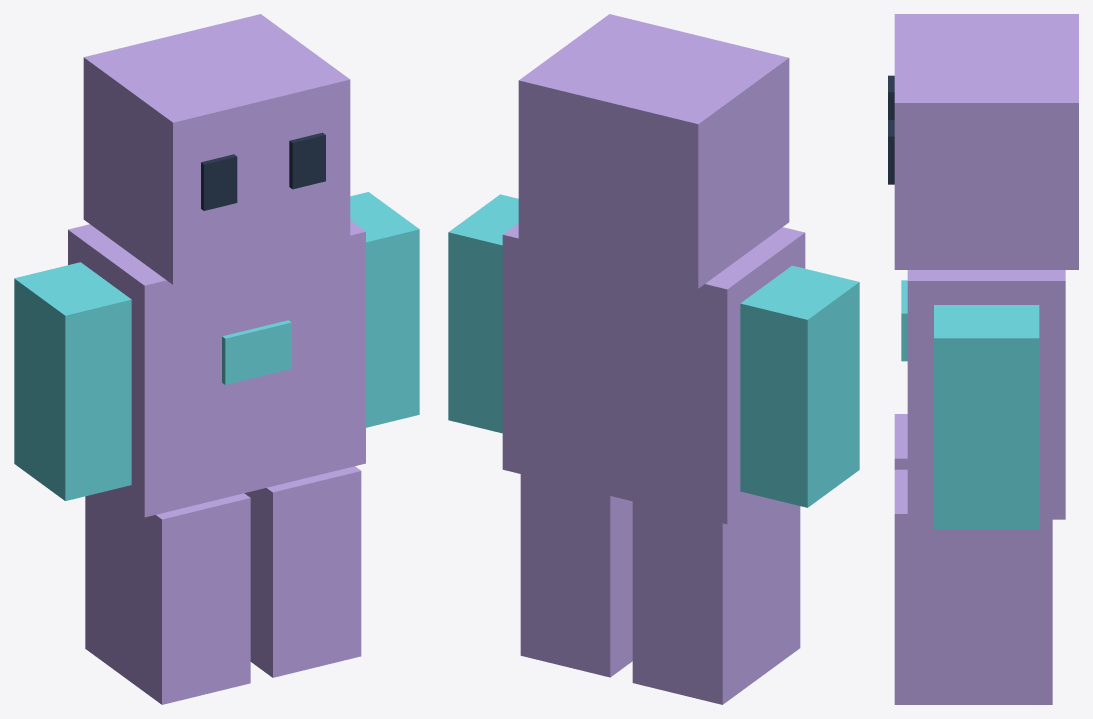
File: robot.gltf
The picture shows the model from 3 angles, left to right: view 1: azimuth 30°, elevation 25°; view 2: azimuth 150°, elevation 25°; view 3: azimuth 270°, elevation 25°; orthographic projection. The views are drawn at different scales.
Visible parts, largest first — view 1: Head, Body, Left Foot, Left Arm, Right Foot, Right Arm, Chest Light, Right Eye, Left Eye; view 2: Head, Body, Left Foot, Left Arm, Right Foot, Right Arm; view 3: Head, Right Foot, Right Arm, Body, Left Foot, Chest Light, Right Eye, Left Eye.
Boxes of the visible parts, x1,y1,x2,y2 form: Head: (83,14,350,284); Body: (68,220,365,517); Left Foot: (85,491,250,704); Left Arm: (14,262,131,500); Right Foot: (244,466,361,677); Right Arm: (350,192,419,427); Chest Light: (222,320,291,384); Right Eye: (289,132,325,189); Left Eye: (201,154,237,210); Head: (518,14,789,288); Body: (502,223,805,524); Left Foot: (632,497,800,704); Left Arm: (740,265,859,507); Right Foot: (520,474,632,677); Right Arm: (448,194,518,433); Head: (894,14,1078,269); Right Foot: (894,469,1052,704); Right Arm: (934,305,1039,529); Body: (907,270,1065,519); Left Foot: (894,414,907,469); Chest Light: (901,280,907,361); Right Eye: (888,120,894,184); Left Eye: (888,75,894,119).
Size of the model in its own units: 1 by 1.56 by 0.4531.
